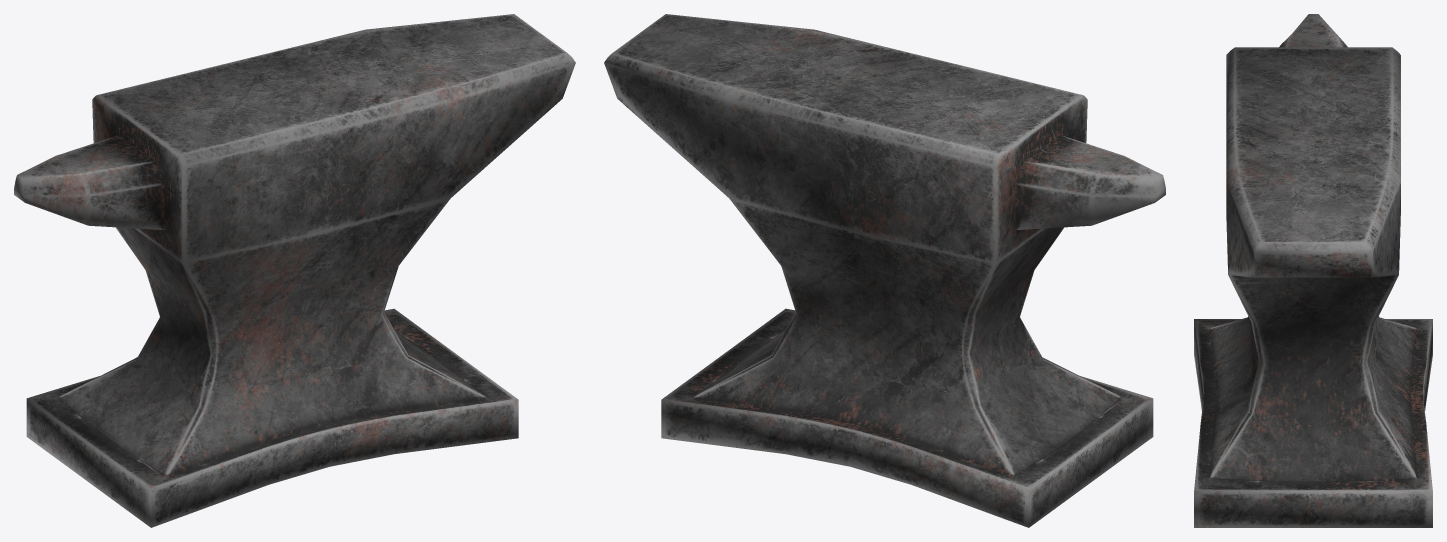
Rendered from strong_medieval_anvil.glb.
The picture shows the model from 3 angles, left to right: view 1: azimuth 30°, elevation 25°; view 2: azimuth 150°, elevation 25°; view 3: azimuth 270°, elevation 25°; orthographic projection. The views are drawn at different scales.
Parts seen in each view (by area): view 1: Plane_0; view 2: Plane_0; view 3: Plane_0.
Part boxes in pixels (bbox=[...]): Plane_0: bbox=[14, 14, 575, 527]; Plane_0: bbox=[604, 14, 1165, 527]; Plane_0: bbox=[1194, 14, 1432, 527].
Size of the model in its own units: 2.55 by 1.6 by 1.04.
Materials: 1 (1 with a texture image).
